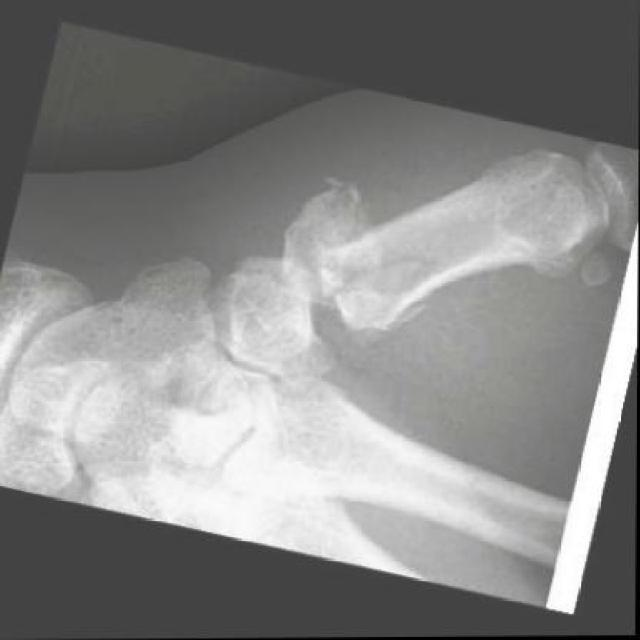Fracture: (253, 149, 428, 363)
